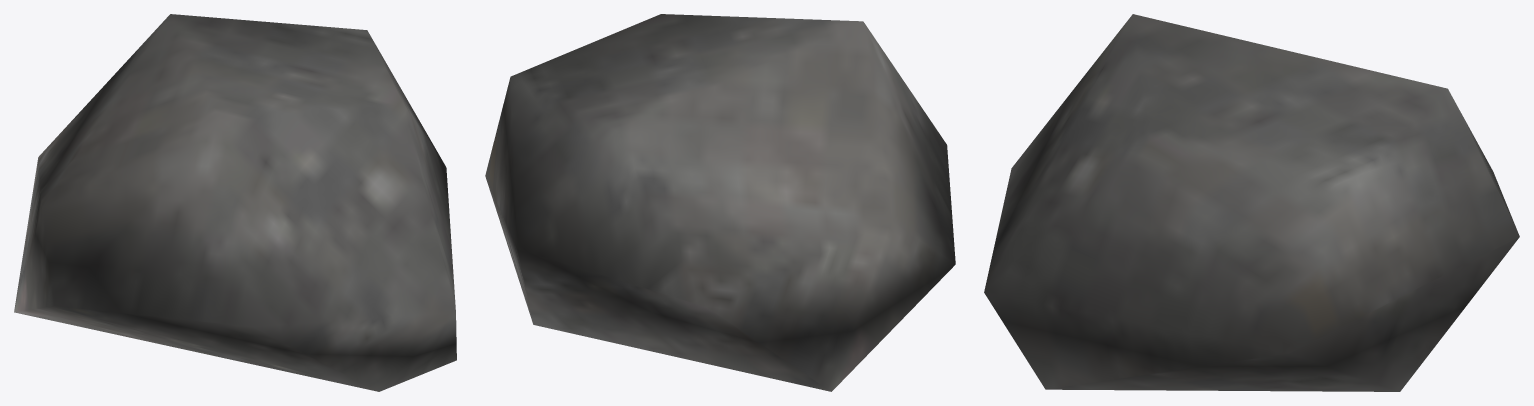
File: objects_un_a_w23rock01_06.gltf
The picture shows the model from 3 angles, left to right: view 1: azimuth 30°, elevation 25°; view 2: azimuth 150°, elevation 25°; view 3: azimuth 270°, elevation 25°; orthographic projection. The views are drawn at different scales.
Visible parts, largest first — view 1: objects_un_a_w23rock01_06_mesh_shape:objects_un_a_w23rock01_; view 2: objects_un_a_w23rock01_06_mesh_shape:objects_un_a_w23rock01_; view 3: objects_un_a_w23rock01_06_mesh_shape:objects_un_a_w23rock01_.
Part boxes in pixels (left/top/right/bottom): objects_un_a_w23rock01_06_mesh_shape:objects_un_a_w23rock01_: left=14, top=14, right=456, bottom=391; objects_un_a_w23rock01_06_mesh_shape:objects_un_a_w23rock01_: left=485, top=14, right=955, bottom=391; objects_un_a_w23rock01_06_mesh_shape:objects_un_a_w23rock01_: left=984, top=14, right=1519, bottom=391.
Size of what is drawn, in the model's own units: 0.2629 by 0.1503 by 0.2667.
Materials: 1 (1 with a texture image).
